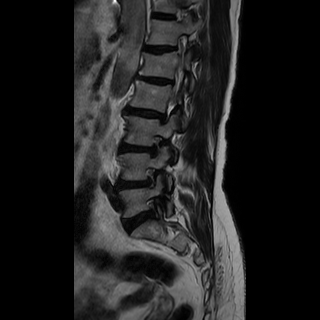LFS3: (143, 130, 170, 163), (135, 163, 162, 194)
